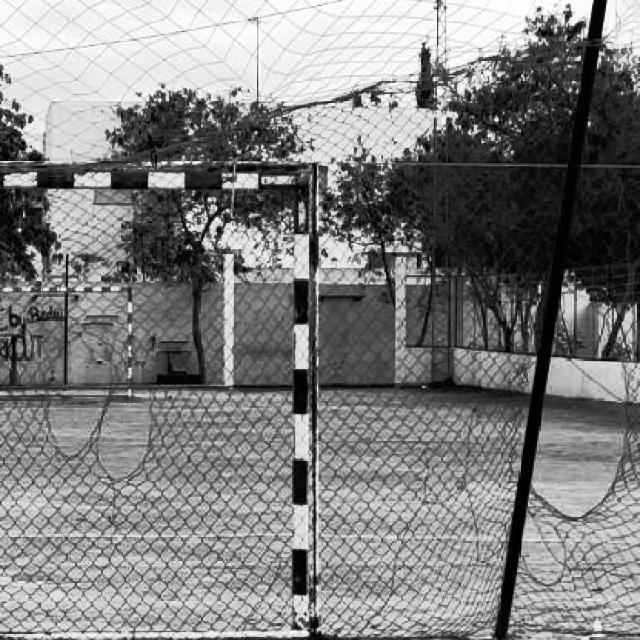anomaly-fence: (466, 213, 640, 616), (24, 254, 164, 538)
